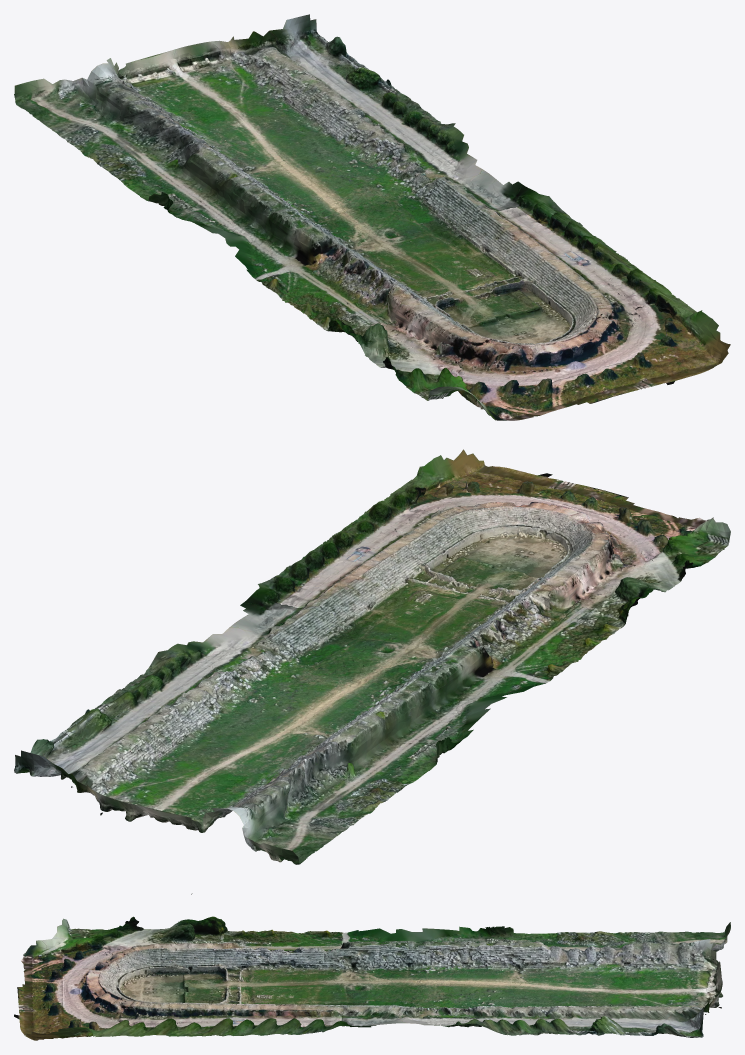
Rendered from panathenaic.glb.
3 renders of one model, top to bottom at view 1: azimuth 30°, elevation 25°; view 2: azimuth 150°, elevation 25°; view 3: azimuth 270°, elevation 25°, orthographic. The views are drawn at different scales.
Parts seen in each view (by area): view 1: Object_2; view 2: Object_2; view 3: Object_2.
Part boxes in pixels (x1,y1,x2,y2): Object_2: [14, 14, 730, 420]; Object_2: [14, 449, 730, 864]; Object_2: [14, 893, 730, 1040].
Size of the model in its own units: 15.98 by 3.02 by 42.72.
Materials: 1 (1 with a texture image).
